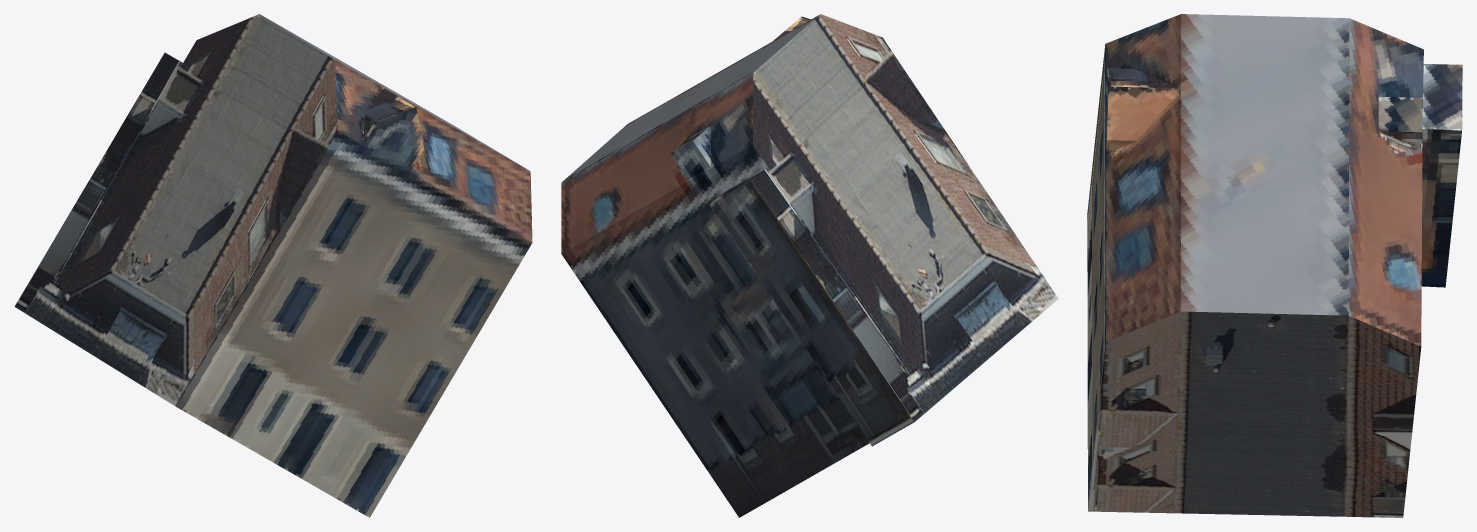
3 renders of one model, left to right at view 1: azimuth 30°, elevation 25°; view 2: azimuth 150°, elevation 25°; view 3: azimuth 270°, elevation 25°, orthographic. The views are drawn at different scales.
Visible parts, largest first — view 1: BAG_0599100000688681 (×4); view 2: BAG_0599100000688681 (×4); view 3: BAG_0599100000688681 (×5).
Boxes of the visible parts, x1,y1,x2,y2 form: BAG_0599100000688681 (×4): (14,14,532,517); BAG_0599100000688681 (×4): (561,14,1058,517); BAG_0599100000688681 (×5): (1087,14,1462,517).
Bounding box in the file's own units: 15.75 × 16.3 × 10.84.
Materials: 5 (5 with a texture image).
